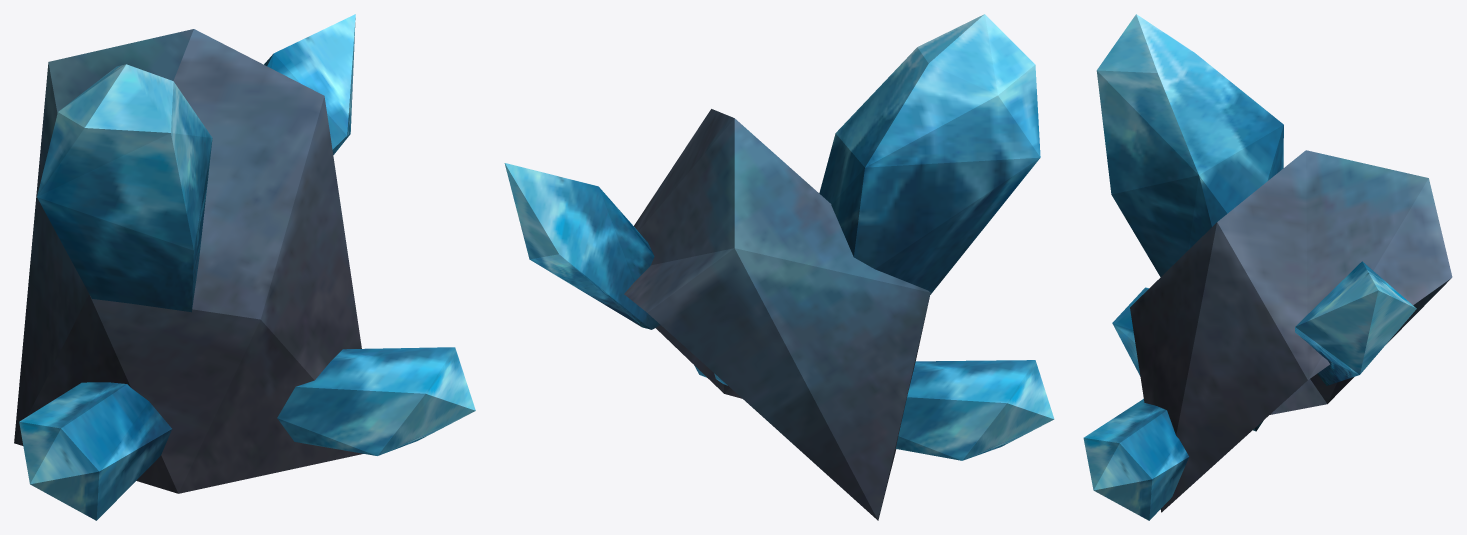
File: mine_ember_ore02.fbx
The picture shows the model from 3 angles, left to right: view 1: azimuth 30°, elevation 25°; view 2: azimuth 150°, elevation 25°; view 3: azimuth 270°, elevation 25°; orthographic projection. The views are drawn at different scales.
Parts seen in each view (by area): view 1: mine_ember_ore01.psd; view 2: mine_ember_ore01.psd; view 3: mine_ember_ore01.psd.
Boxes of the visible parts, x1,y1,x2,y2 form: mine_ember_ore01.psd: (14, 14, 475, 520); mine_ember_ore01.psd: (504, 14, 1054, 520); mine_ember_ore01.psd: (1083, 14, 1452, 520).
Size of the model in its own units: 0.9859 by 0.9498 by 0.815.
